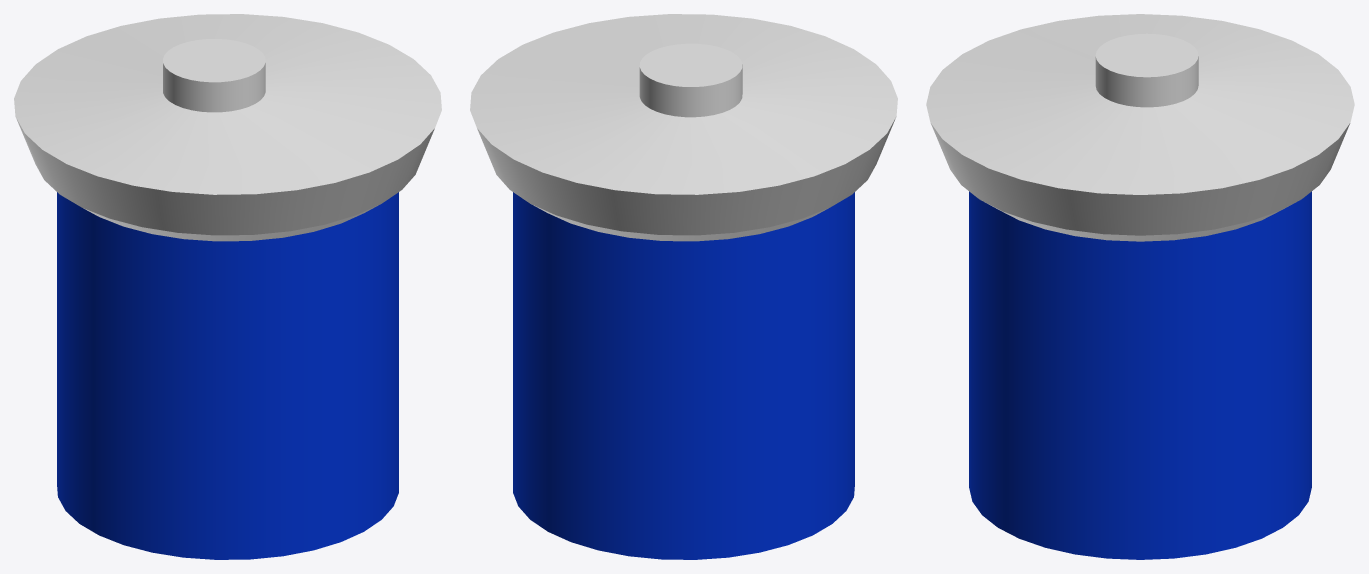
File: BulletDisplayObject.fbx
3 renders of one model, left to right at view 1: azimuth 30°, elevation 25°; view 2: azimuth 150°, elevation 25°; view 3: azimuth 270°, elevation 25°, orthographic.
Visible parts, largest first — view 1: 円; view 2: 円; view 3: 円.
Part boxes in pixels (bbox=[...]): 円: bbox=[14, 14, 441, 559]; 円: bbox=[470, 14, 897, 559]; 円: bbox=[926, 14, 1354, 559].
Size of the model in its own units: 250 by 275 by 250.
